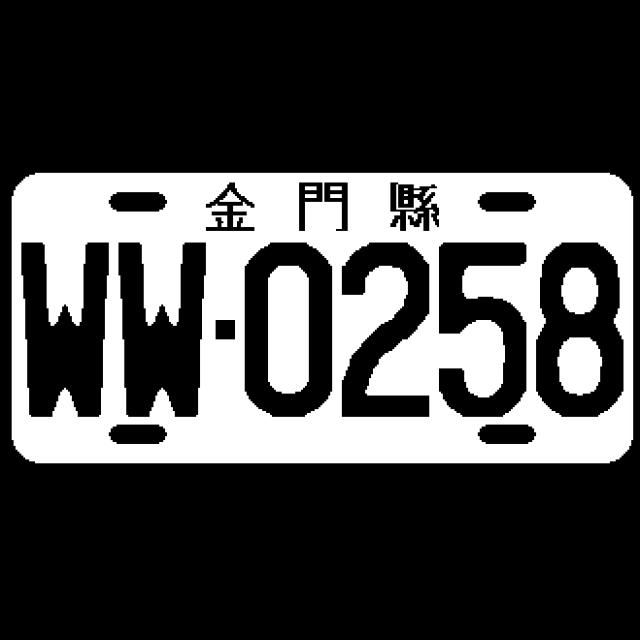plate: (9, 170, 636, 468)
